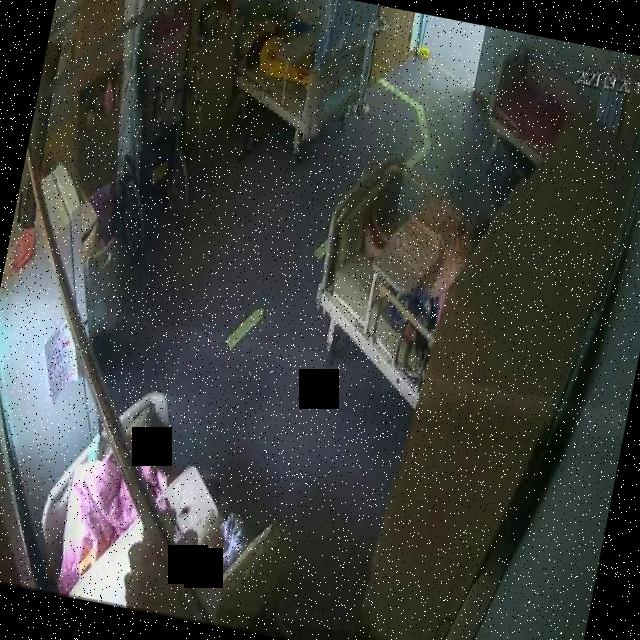bed: (27, 372, 308, 636), (303, 151, 488, 402), (226, 0, 376, 142), (478, 38, 582, 168)
